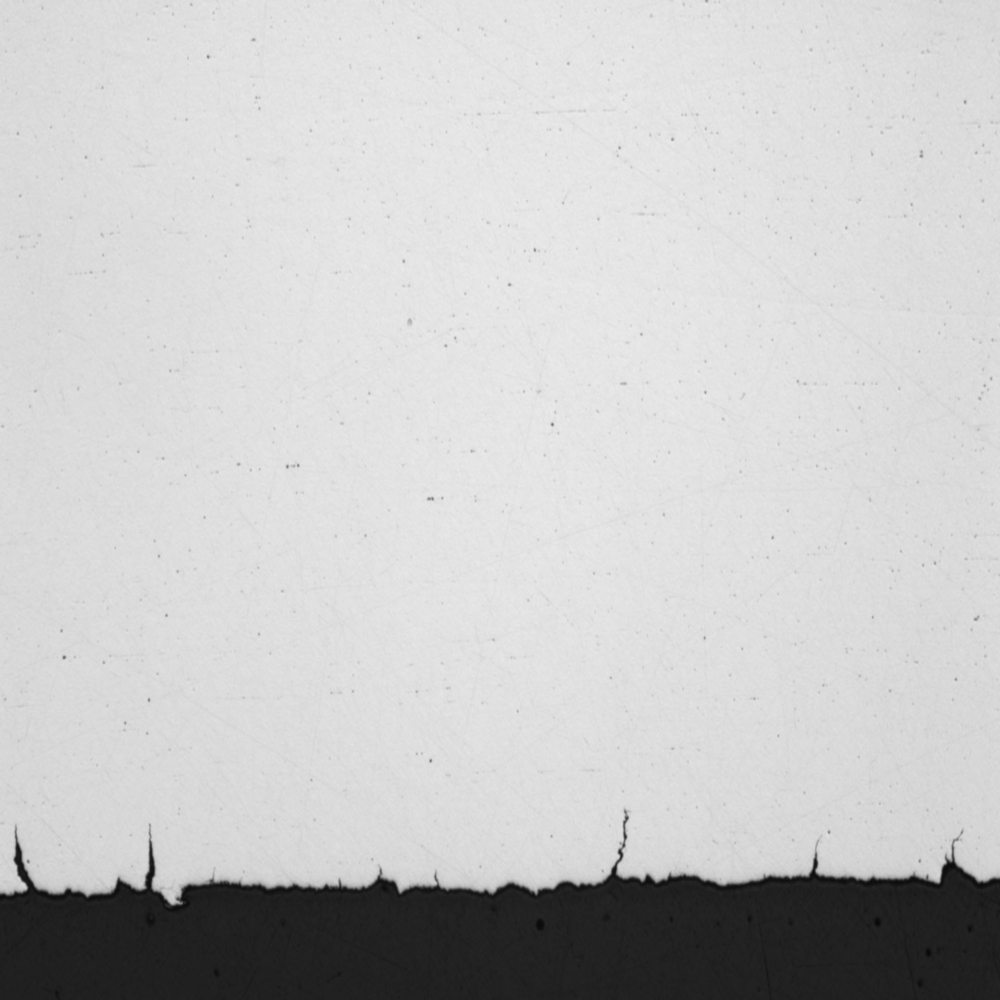crack: (916, 827, 995, 898), (589, 795, 640, 890), (117, 816, 162, 902), (785, 827, 847, 889), (7, 823, 39, 911)
